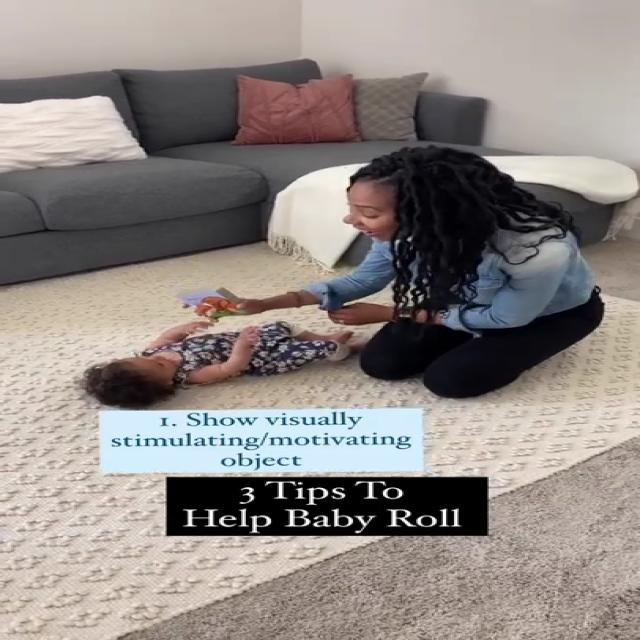baby: (84, 318, 366, 412)
